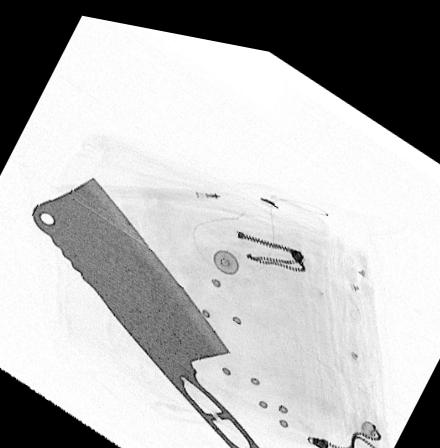Knife: (32, 171, 277, 448)
